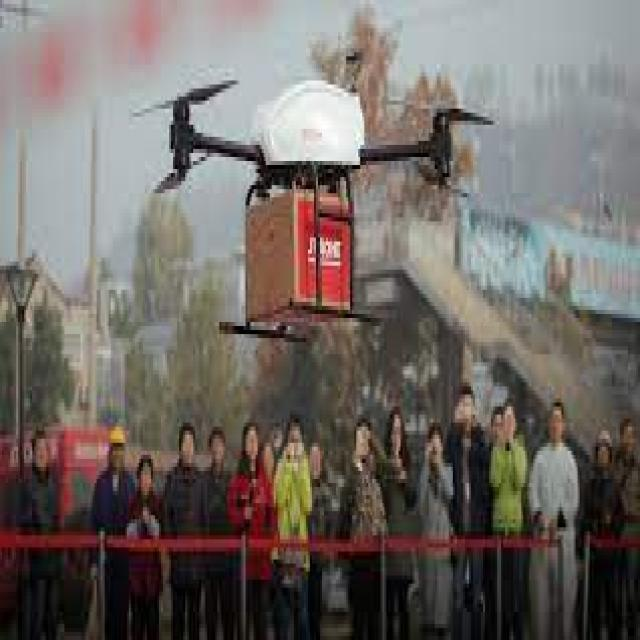drones: (111, 38, 500, 356)
